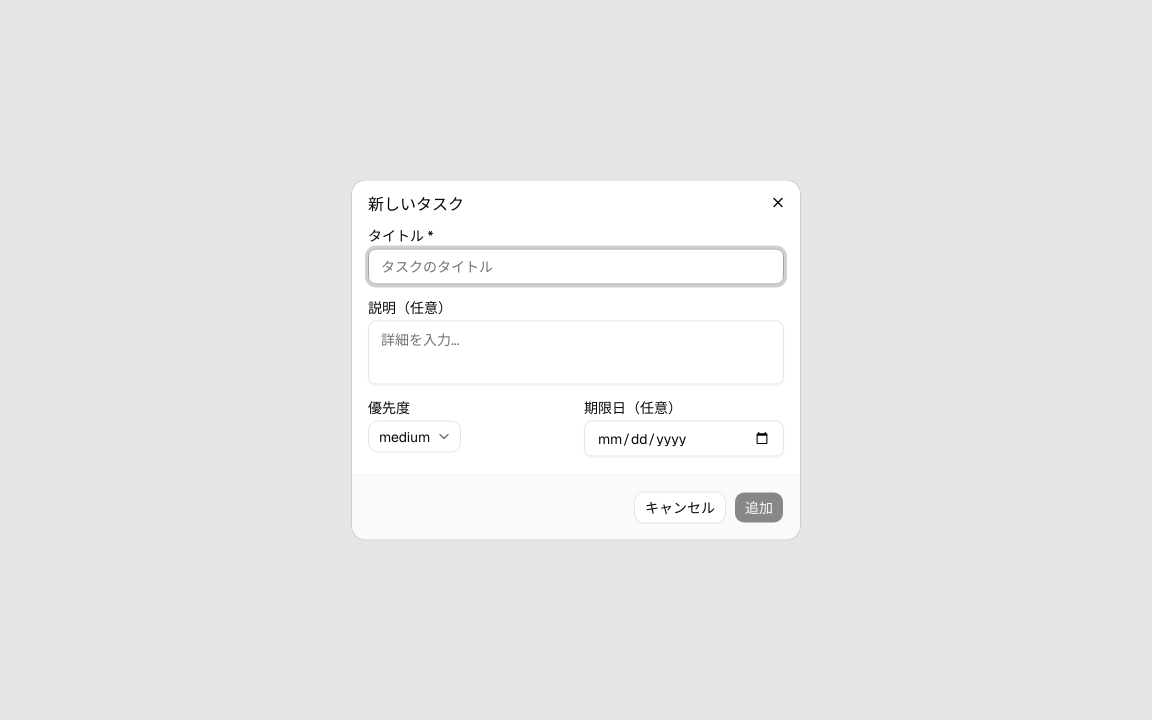
Test: TodoForm › タイトルを入力すると送信ボタンが有効になる
Type "テストタスク" into the field labelled "タイトル *" at (576, 266), box [368,248,784,284]
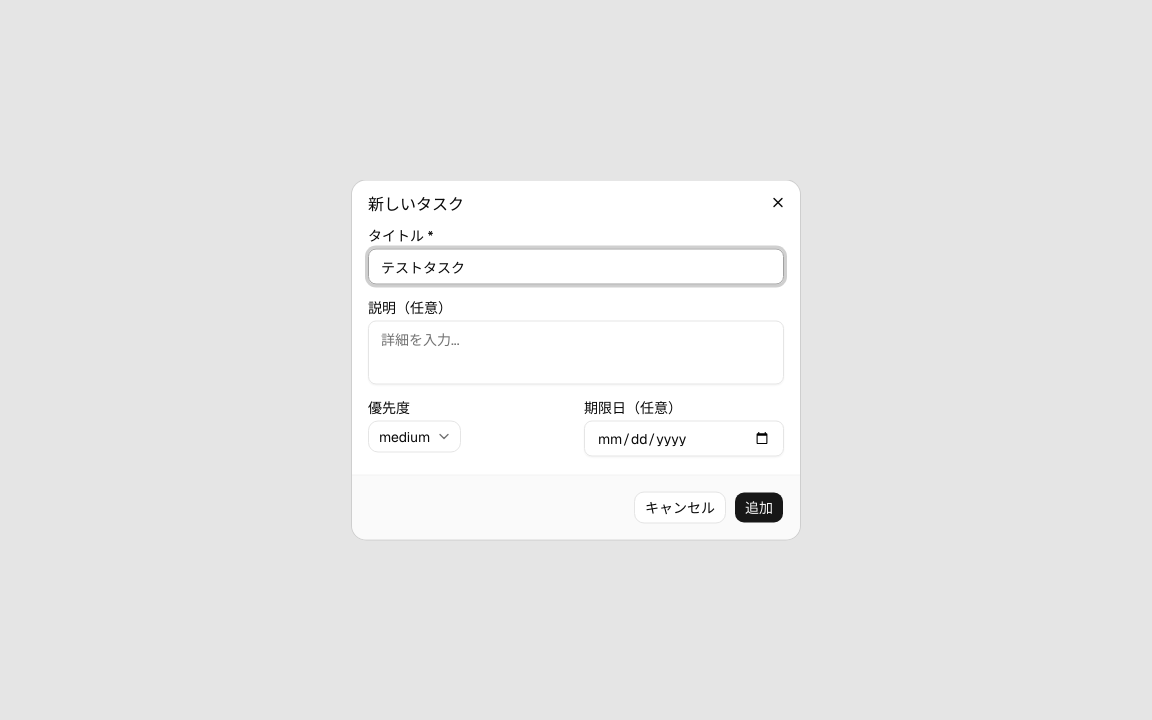
Expected: the button "追加" is enabled, [734,492,784,524]
